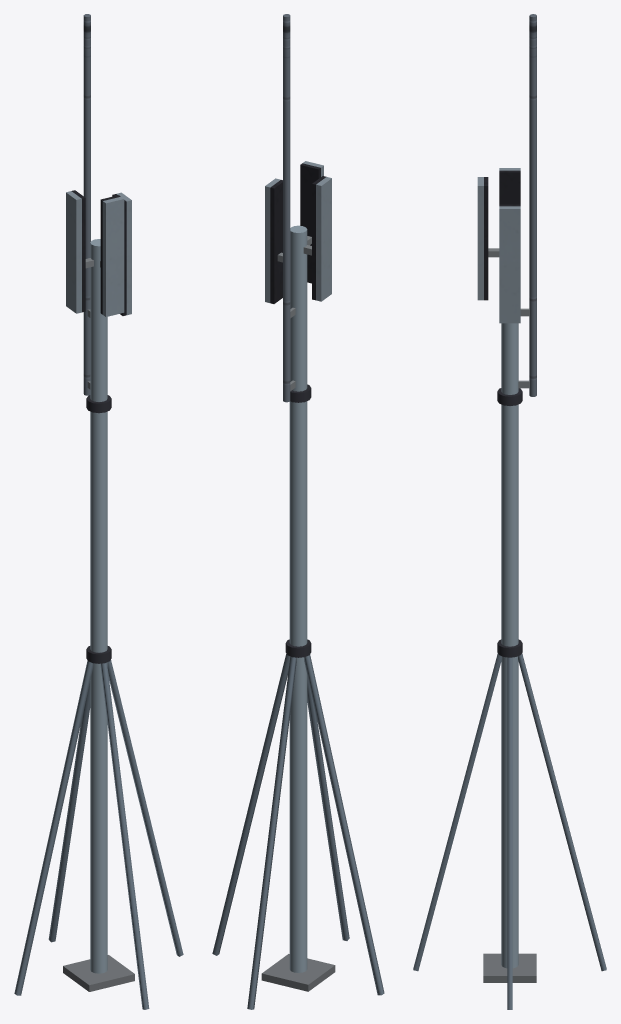
Rendered from Mast2.fbx.
The picture shows the model from 3 angles, left to right: view 1: azimuth 30°, elevation 25°; view 2: azimuth 150°, elevation 25°; view 3: azimuth 270°, elevation 25°; orthographic projection.
Visible parts, largest first — view 1: polySurface1341; view 2: polySurface1341; view 3: polySurface1341.
Boxes of the visible parts, bbox=[...] form: polySurface1341: bbox=[14, 14, 183, 1009]; polySurface1341: bbox=[212, 14, 384, 1009]; polySurface1341: bbox=[413, 14, 606, 1009].
Size of the model in its own units: 206 by 1124 by 206.
